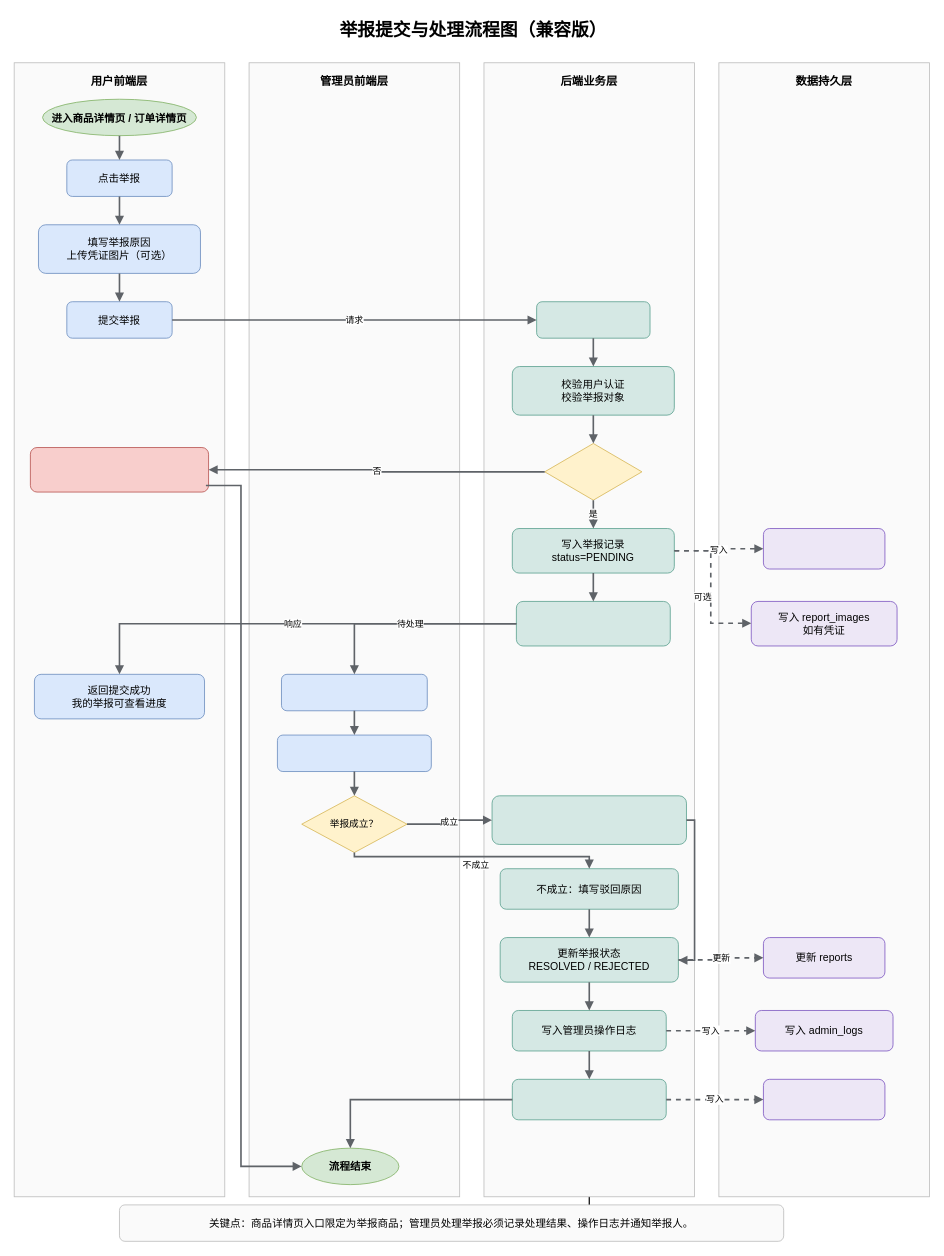
Image size: 944x1256. Some labels were removed from this diagram. The centre of each missing label's shape, as x and y in pixels:
写入 messages: point 824,1099
写入 reports: point 824,548
成立：下架商品 / 处理用户 / 异常关闭订单: point 588,819
接收举报请求: point 593,319
提示：未认证 / 对象异常 / 上传失败: point 119,469
查看举报内容与凭证: point 354,753
校验通过？: point 593,471
生成待处理举报 通知管理员: point 593,623
进入举报处理页: point 354,692
通知举报人处理结果: point 589,1099
